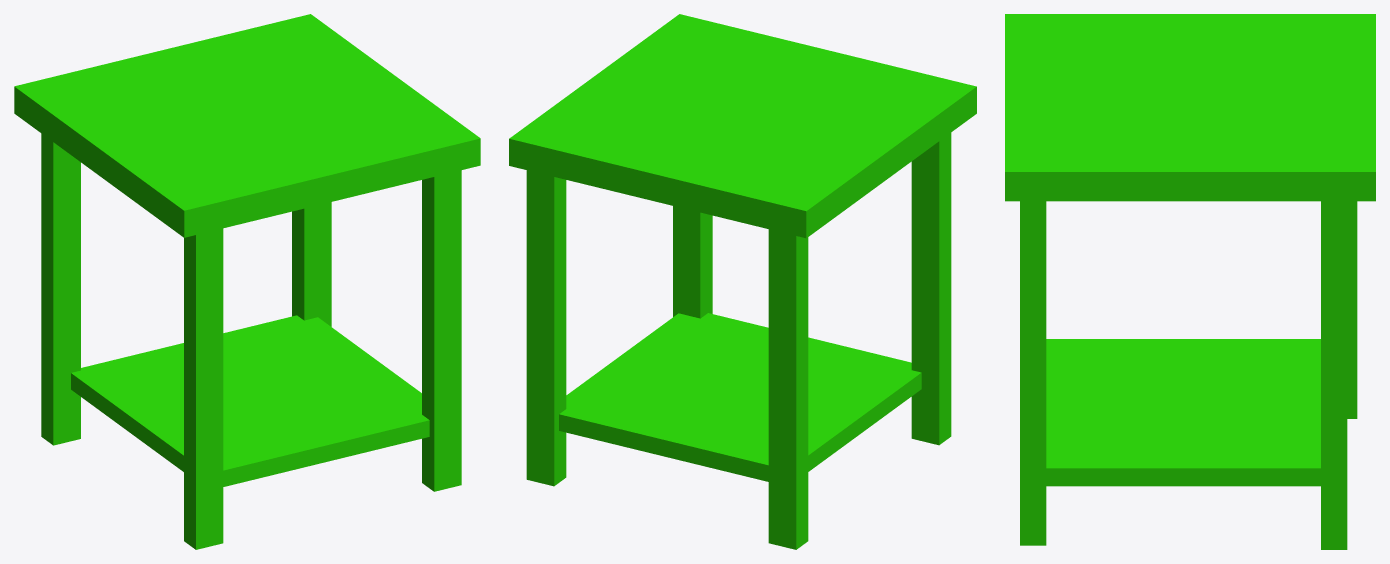
Rendered from Restaurant_Cupboard_04.fbx.
The picture shows the model from 3 angles, left to right: view 1: azimuth 30°, elevation 25°; view 2: azimuth 150°, elevation 25°; view 3: azimuth 270°, elevation 25°; orthographic projection. The views are drawn at different scales.
Visible parts, largest first — view 1: Restaurant_Cupboard_04; view 2: Restaurant_Cupboard_04; view 3: Restaurant_Cupboard_04.
Boxes of the visible parts, left/top/right/bottom form: Restaurant_Cupboard_04: left=14, top=14, right=480, bottom=549; Restaurant_Cupboard_04: left=509, top=14, right=976, bottom=549; Restaurant_Cupboard_04: left=1005, top=14, right=1375, bottom=549.
Bounding box in the file's own units: 71.51 × 80.34 × 70.98.
